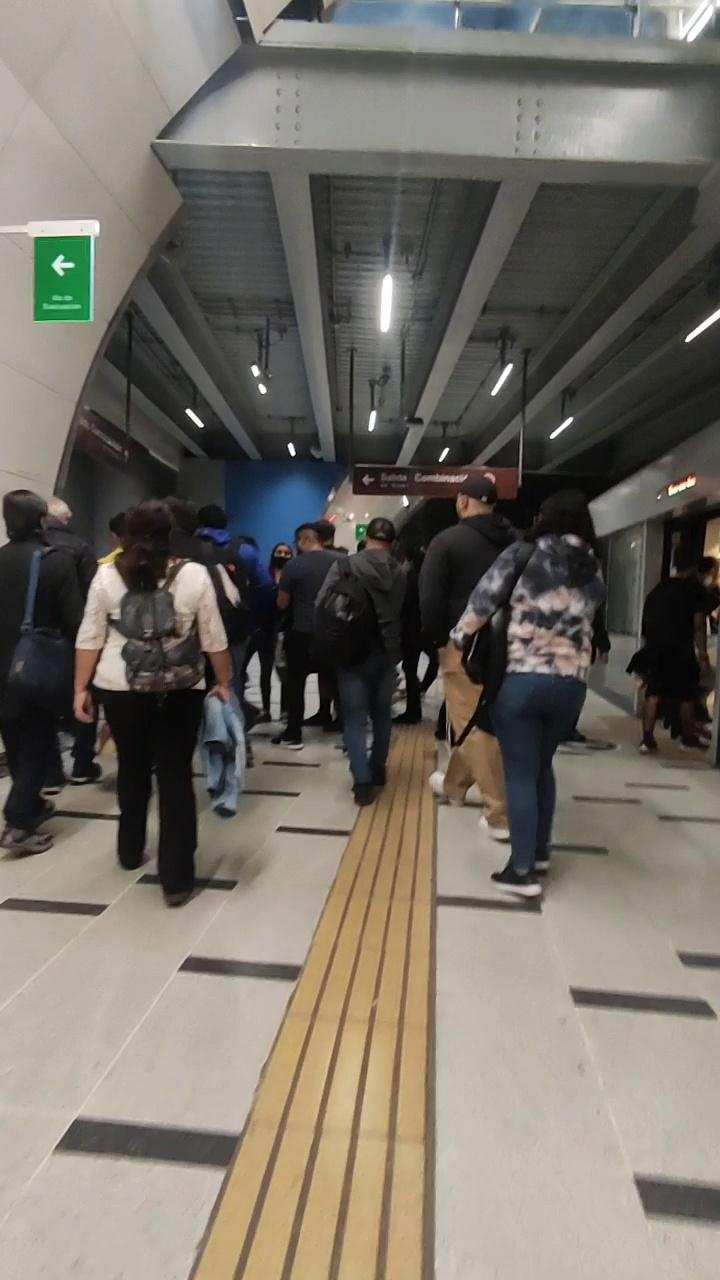left arrow: (358, 472, 375, 490)
